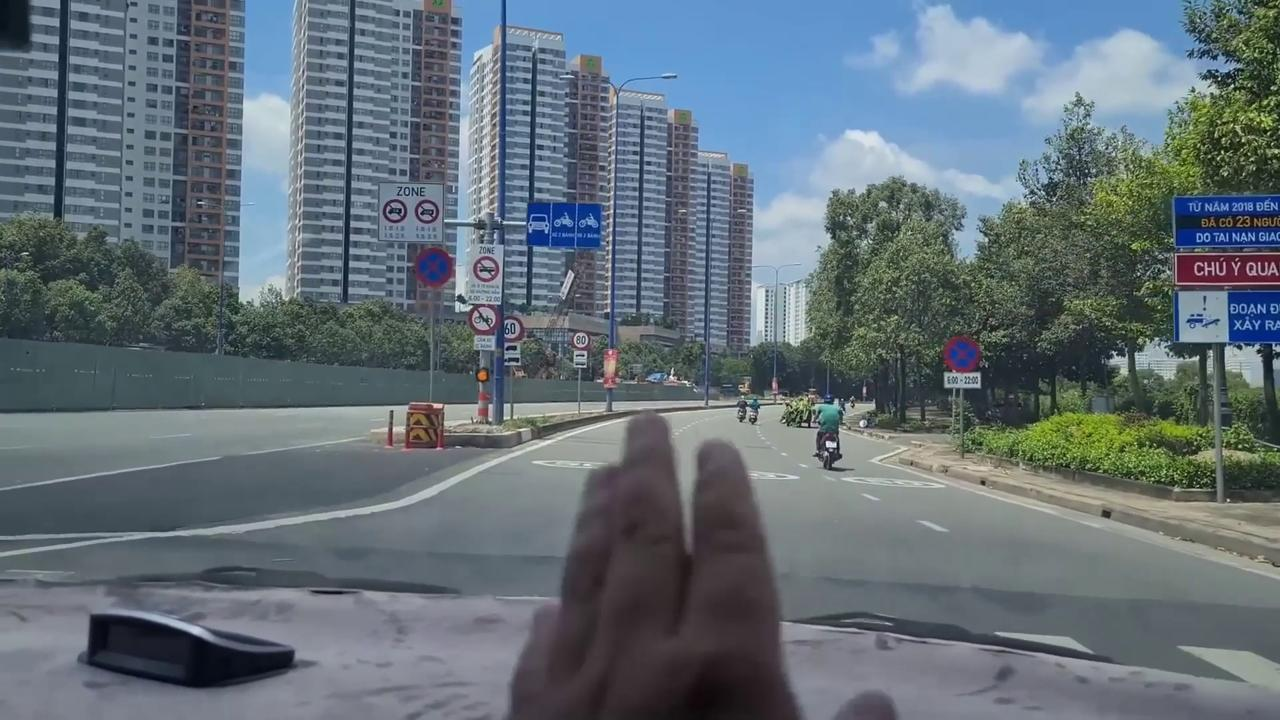Biển phụ: (943, 372, 982, 389), (502, 341, 522, 367), (473, 335, 496, 351), (573, 350, 588, 368)
Cấm cac phương tiện hoạt động trong khung giờ cố định: (376, 182, 444, 244), (467, 243, 503, 304)
Cấm dừng - Cấm đỗ: (415, 246, 452, 288), (943, 334, 981, 372)
Cấm xe máy: (467, 304, 501, 335)
GIơi hạn tốc độ 60Km/h: (501, 316, 525, 340)
Giới hạn tốc độ 80Km/h: (572, 330, 590, 350)
Làn đường cho từng xe: (526, 201, 603, 249)
